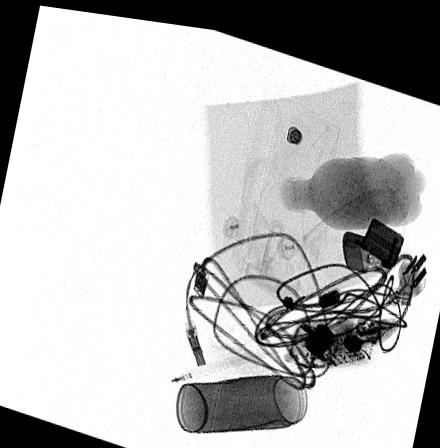Lighter: (342, 204, 405, 262)
